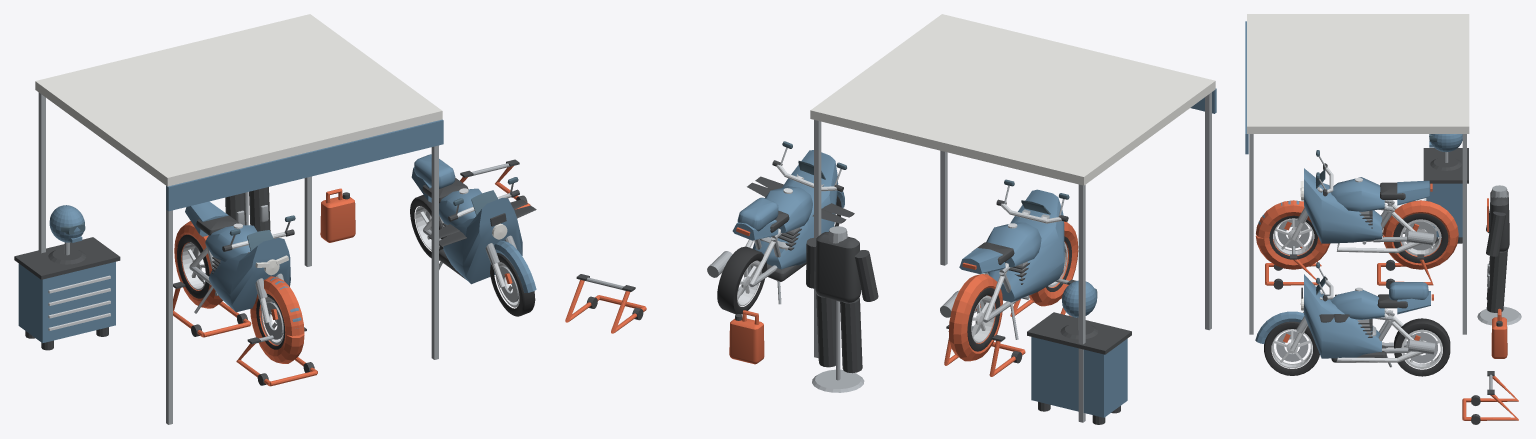
File: motorcycle-racing-and-street-bikes-paddo-eb3c9648-starter-scene__15481.glb
The picture shows the model from 3 angles, left to right: view 1: azimuth 30°, elevation 25°; view 2: azimuth 150°, elevation 25°; view 3: azimuth 270°, elevation 25°; orthographic projection. The views are drawn at different scales.
Visible parts, largest first — view 1: 002-transport-van-awning/0, 002-transport-van-awning/2, 001-prototype-on-side-stand/11, 003-tool-trolley/0, 002-transport-van-awning/1, 000-superbike-tyre-warmers/11, 000-superbike-tyre-warmers/15, 003-tool-trolley/2, 007-fuel-can/0, 001-prototype-on-side-stand/10, 000-superbike-tyre-warmers/10, 005-leathers-on-mannequin/1 (+7 smaller); view 2: 002-transport-van-awning/0, 005-leathers-on-mannequin/1, 003-tool-trolley/0, 000-superbike-tyre-warmers/11, 002-transport-van-awning/1, 001-prototype-on-side-stand/11, 000-superbike-tyre-warmers/15, 003-tool-trolley/2, 001-prototype-on-side-stand/wheel-rear/rubber, 001-prototype-on-side-stand/10, 005-leathers-on-mannequin/0, 007-fuel-can/0 (+7 smaller); view 3: 002-transport-van-awning/0, 001-prototype-on-side-stand/11, 000-superbike-tyre-warmers/11, 000-superbike-tyre-warmers/15, 005-leathers-on-mannequin/1, 002-transport-van-awning/1, 001-prototype-on-side-stand/wheel-rear/rubber, 003-tool-trolley/2, 001-prototype-on-side-stand/8, 003-tool-trolley/0, 001-prototype-on-side-stand/wheel-front/rubber, 000-superbike-tyre-warmers/8 (+21 smaller).
Boxes of the visible parts, box(x1,y1,x2,y2) form: 002-transport-van-awning/0: box(35, 14, 442, 186); 002-transport-van-awning/2: box(166, 119, 443, 211); 001-prototype-on-side-stand/11: box(411, 154, 536, 292); 003-tool-trolley/0: box(18, 261, 115, 343); 002-transport-van-awning/1: box(38, 92, 438, 424); 000-superbike-tyre-warmers/11: box(185, 201, 301, 328); 000-superbike-tyre-warmers/15: box(173, 221, 317, 386); 003-tool-trolley/2: box(14, 237, 120, 350); 007-fuel-can/0: box(320, 188, 355, 242); 001-prototype-on-side-stand/10: box(422, 178, 536, 279); 000-superbike-tyre-warmers/10: box(173, 214, 314, 385); 005-leathers-on-mannequin/1: box(225, 187, 270, 231); 002-transport-van-awning/0: box(810, 14, 1215, 185); 005-leathers-on-mannequin/1: box(806, 232, 878, 373); 003-tool-trolley/0: box(1031, 337, 1127, 417); 000-superbike-tyre-warmers/11: box(959, 189, 1064, 302); 002-transport-van-awning/1: box(814, 92, 1211, 422); 001-prototype-on-side-stand/11: box(732, 150, 844, 269); 000-superbike-tyre-warmers/15: box(944, 221, 1078, 376); 003-tool-trolley/2: box(1027, 312, 1131, 424); 001-prototype-on-side-stand/wheel-rear/rubber: box(717, 246, 766, 314); 001-prototype-on-side-stand/10: box(747, 160, 854, 281); 005-leathers-on-mannequin/0: box(812, 226, 864, 392); 007-fuel-can/0: box(729, 310, 764, 364); 002-transport-van-awning/0: box(1247, 14, 1469, 133); 001-prototype-on-side-stand/11: box(1255, 274, 1430, 358); 000-superbike-tyre-warmers/11: box(1258, 168, 1429, 243); 000-superbike-tyre-warmers/15: box(1255, 183, 1458, 285); 005-leathers-on-mannequin/1: box(1486, 191, 1509, 312); 002-transport-van-awning/1: box(1249, 134, 1466, 334); 001-prototype-on-side-stand/wheel-rear/rubber: box(1394, 318, 1450, 376); 003-tool-trolley/2: box(1423, 148, 1468, 243); 001-prototype-on-side-stand/8: box(1296, 268, 1435, 354); 003-tool-trolley/0: box(1426, 183, 1462, 237); 001-prototype-on-side-stand/wheel-front/rubber: box(1264, 321, 1319, 375); 000-superbike-tyre-warmers/8: box(1292, 156, 1433, 254).
Bounding box in the file's own units: 5.63 × 2.59 × 3.11.
